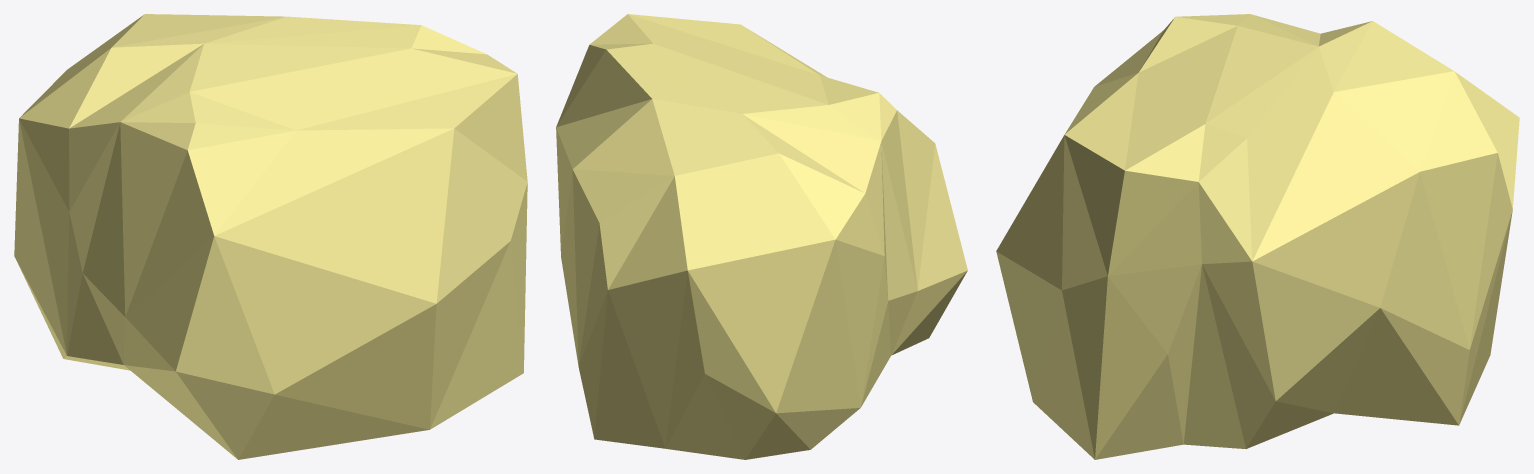
Rendered from Hill_001.glb.
The picture shows the model from 3 angles, left to right: view 1: azimuth 30°, elevation 25°; view 2: azimuth 150°, elevation 25°; view 3: azimuth 270°, elevation 25°; orthographic projection. The views are drawn at different scales.
Parts seen in each view (by area): view 1: Hill_001; view 2: Hill_001; view 3: Hill_001.
Boxes of the visible parts, box(x1,y1,x2,y2) form: Hill_001: box(14, 14, 527, 459); Hill_001: box(556, 14, 967, 459); Hill_001: box(996, 14, 1519, 459).
Size of the model in its own units: 1.31 by 1.07 by 1.53.
Materials: 1 (1 with a texture image).
